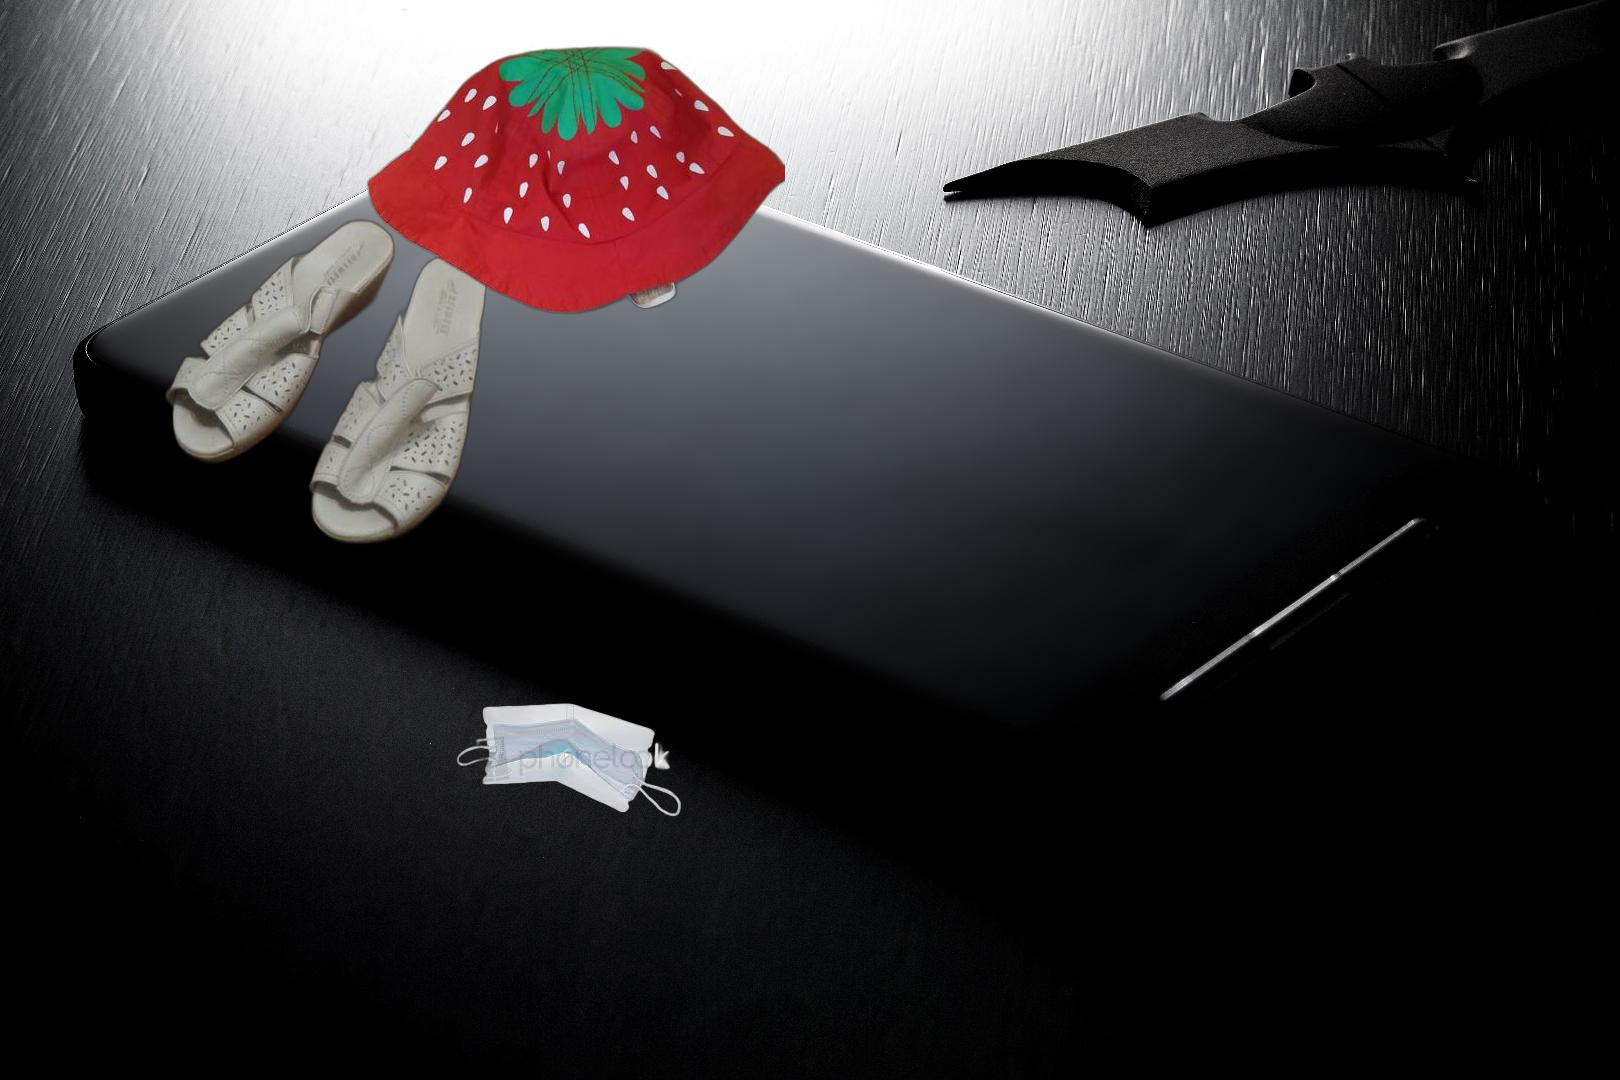clothes: (365, 43, 785, 317)
shoes: (162, 215, 491, 551)
trash: (456, 700, 681, 818)
